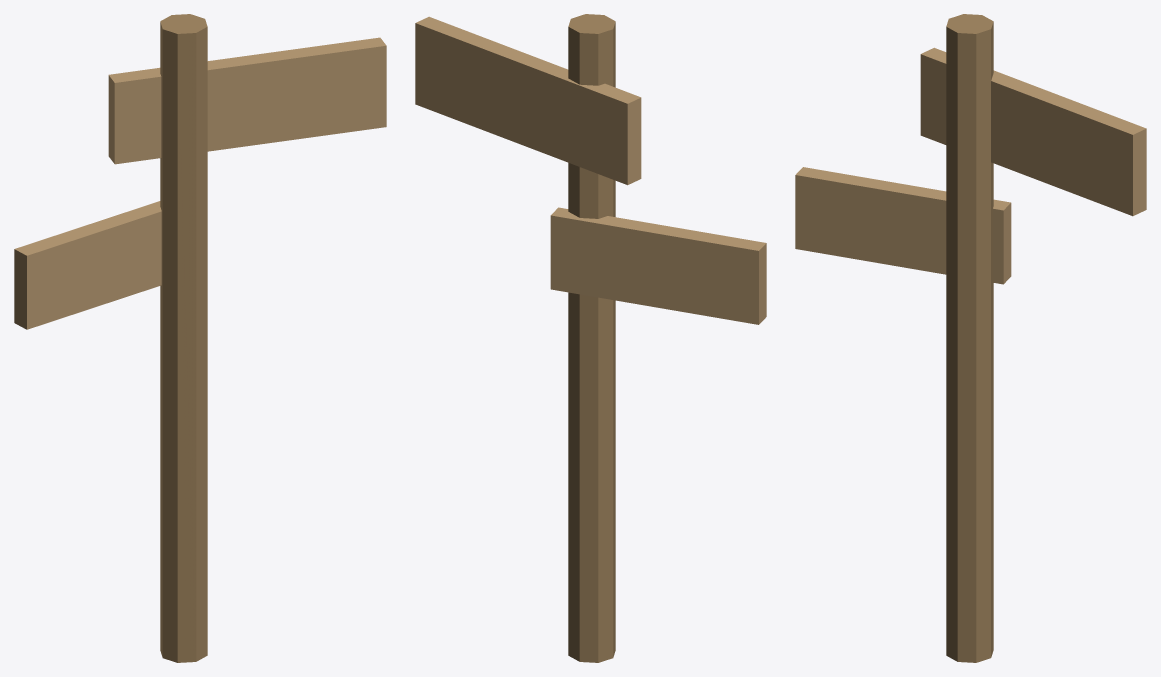
The model's file is signpost.glb.
The picture shows the model from 3 angles, left to right: view 1: azimuth 30°, elevation 25°; view 2: azimuth 150°, elevation 25°; view 3: azimuth 330°, elevation 25°; orthographic projection.
Parts seen in each view (by area): view 1: Cylinder, Cube, Cube.001; view 2: Cylinder, Cube, Cube.001; view 3: Cylinder, Cube, Cube.001.
Boxes of the visible parts, x1,y1,x2,y2 form: Cylinder: [160, 14, 207, 662]; Cube: [108, 37, 386, 164]; Cube.001: [14, 201, 161, 329]; Cylinder: [568, 14, 615, 662]; Cube: [415, 16, 641, 185]; Cube.001: [550, 207, 766, 324]; Cylinder: [946, 14, 993, 662]; Cube: [920, 47, 1146, 216]; Cube.001: [795, 167, 1011, 284].
Size of the model in its own units: 1 by 1.7 by 0.1944.
